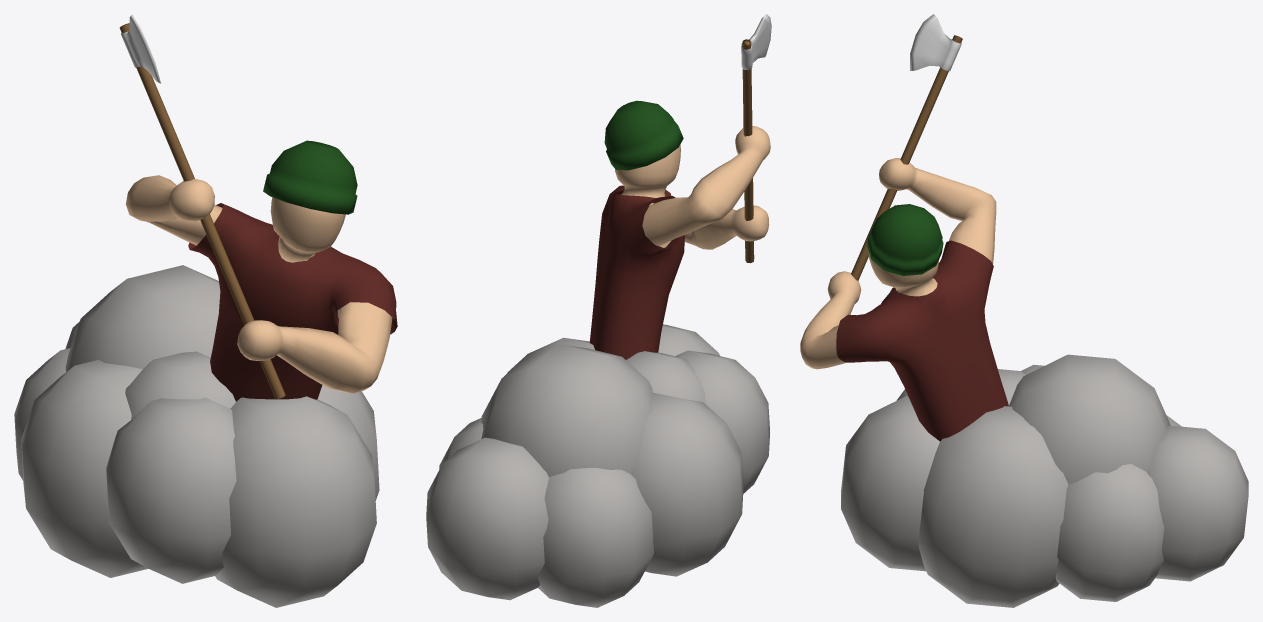
The model's file is Mobs3_Tank.fbx.
The picture shows the model from 3 angles, left to right: view 1: azimuth 30°, elevation 25°; view 2: azimuth 150°, elevation 25°; view 3: azimuth 270°, elevation 25°; orthographic projection. The views are drawn at different scales.
Visible parts, largest first — view 1: Cloud, Shirt, Body, Cylinder.003, Cube.021, Cube.022; view 2: Cloud, Shirt, Body, Cylinder.003, Cube.021, Cube.022; view 3: Cloud, Shirt, Body, Cylinder.003, Cube.022, Cube.021.
Boxes of the visible parts, box(x1,y1,x2,y2) form: Cloud: box(14, 265, 379, 607); Shirt: box(188, 203, 397, 401); Body: box(125, 175, 392, 393); Cylinder.003: box(263, 140, 357, 214); Cube.021: box(119, 23, 285, 399); Cube.022: box(121, 14, 161, 83); Cloud: box(426, 324, 769, 607); Shirt: box(589, 185, 684, 359); Body: box(615, 126, 770, 249); Cylinder.003: box(604, 100, 683, 170); Cube.021: box(742, 39, 754, 263); Cube.022: box(741, 14, 771, 70); Cloud: box(841, 354, 1248, 607); Shirt: box(836, 240, 1008, 441); Body: box(800, 158, 996, 369); Cylinder.003: box(867, 204, 943, 275); Cube.022: box(910, 14, 961, 70); Cube.021: box(851, 35, 962, 280).
Bounding box in the file's own units: 718 × 1463 × 1160.
